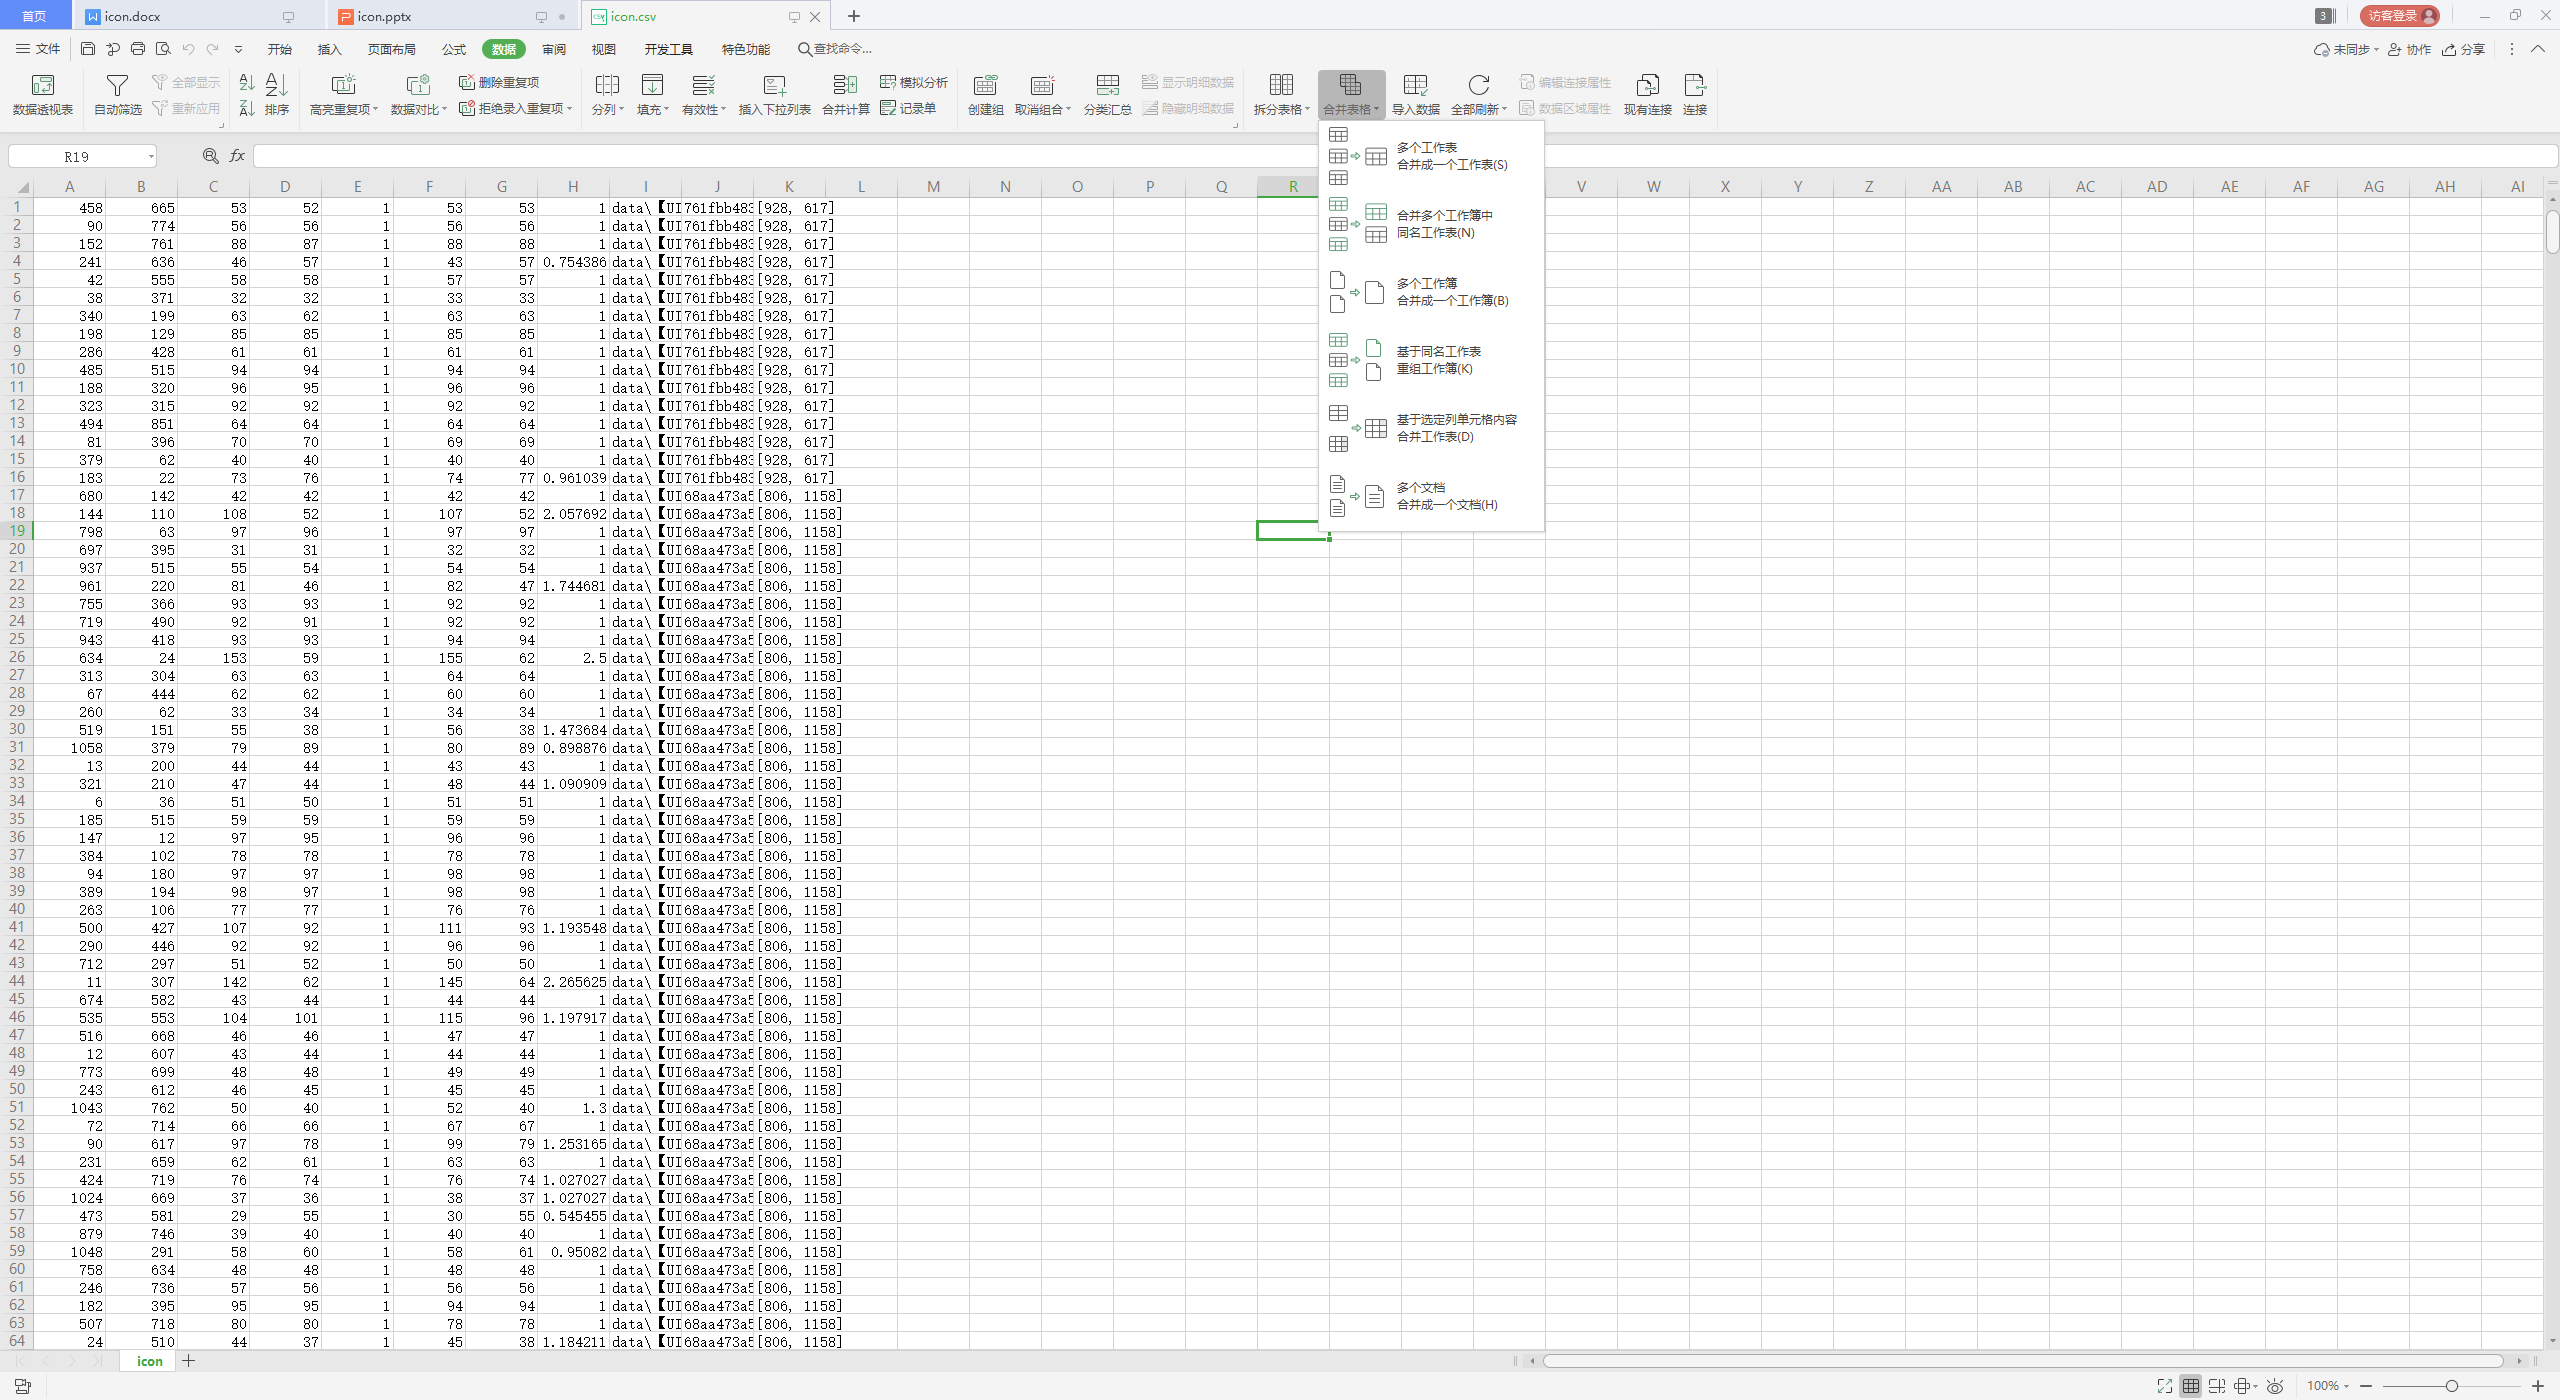character: (1396, 412, 1522, 447), (1389, 483, 1517, 516), (1395, 207, 1510, 240), (1395, 141, 1510, 172), (1395, 278, 1510, 309), (1393, 345, 1508, 376), (1539, 98, 1614, 116), (1160, 74, 1238, 90), (733, 102, 819, 116), (1160, 100, 1236, 116), (476, 102, 560, 116), (1539, 74, 1614, 90), (103, 9, 160, 26), (357, 10, 414, 28), (609, 9, 665, 24), (10, 102, 74, 116), (1619, 102, 1674, 117), (479, 76, 540, 90), (307, 102, 367, 116), (717, 43, 777, 57), (638, 41, 696, 55), (814, 41, 872, 55), (93, 102, 143, 117), (172, 100, 222, 116), (388, 102, 438, 117), (367, 41, 417, 57), (821, 102, 871, 117), (898, 76, 948, 91), (172, 76, 222, 90), (898, 102, 948, 116), (1446, 102, 1496, 116), (2367, 9, 2417, 22), (53, 148, 93, 166), (128, 1353, 167, 1369), (1014, 103, 1064, 116), (1081, 103, 1131, 116), (1252, 103, 1302, 116), (1322, 103, 1372, 116), (1389, 103, 1439, 116), (676, 103, 717, 117), (2405, 40, 2434, 59), (1681, 102, 1715, 117), (2334, 41, 2369, 57), (2462, 40, 2489, 59), (964, 103, 1005, 116), (2307, 1379, 2339, 1393), (34, 41, 64, 55), (17, 10, 50, 22), (267, 43, 295, 57), (317, 41, 345, 55), (440, 41, 467, 55), (490, 43, 517, 57), (538, 41, 565, 55), (590, 41, 617, 55), (590, 103, 617, 117), (264, 102, 291, 116), (633, 103, 660, 117)
icon: (1327, 122, 1388, 186), (1327, 260, 1388, 324), (1322, 331, 1383, 395), (1327, 193, 1388, 255), (1327, 402, 1388, 464), (1326, 467, 1384, 531), (1338, 71, 1372, 97), (103, 71, 133, 98), (1265, 71, 1296, 97), (593, 71, 622, 97), (405, 71, 433, 97), (638, 71, 665, 97), (1634, 71, 1662, 97), (1683, 71, 1708, 97), (829, 72, 859, 95), (29, 72, 55, 97), (331, 71, 357, 95), (264, 71, 288, 97), (690, 72, 715, 97), (972, 72, 998, 97), (1029, 72, 1055, 97), (2177, 1372, 2203, 1397), (1095, 72, 1121, 95), (1402, 72, 1427, 95), (1467, 72, 1489, 97), (2205, 1374, 2227, 1397), (764, 76, 786, 97), (2231, 1374, 2251, 1397), (2313, 5, 2338, 24), (226, 145, 247, 166), (2419, 5, 2439, 26), (2155, 1374, 2176, 1395), (2263, 1374, 2284, 1395), (236, 71, 255, 91), (200, 147, 221, 166), (1140, 98, 1160, 117), (236, 98, 255, 117), (150, 72, 169, 91), (590, 7, 609, 26), (459, 72, 478, 91), (14, 1376, 33, 1395), (2503, 38, 2520, 59), (150, 98, 169, 116), (457, 98, 476, 116), (796, 40, 814, 59), (879, 72, 896, 91), (1517, 72, 1536, 90), (1515, 98, 1534, 116), (86, 1352, 105, 1369), (103, 40, 121, 57), (879, 98, 896, 116), (845, 7, 862, 24), (1141, 72, 1158, 90), (12, 1352, 29, 1369), (2512, 1353, 2529, 1371), (79, 40, 97, 55), (153, 40, 171, 55), (129, 40, 147, 55), (179, 41, 197, 57), (279, 9, 297, 24), (84, 9, 102, 24), (14, 40, 31, 55), (336, 9, 353, 24), (786, 9, 803, 24), (2313, 41, 2331, 57), (2439, 41, 2457, 57), (2529, 40, 2546, 55), (36, 1352, 53, 1367), (179, 1352, 197, 1367), (2529, 1378, 2546, 1393), (2443, 1378, 2460, 1393), (2544, 1334, 2560, 1352), (807, 9, 822, 24), (2388, 41, 2403, 57), (64, 1352, 79, 1367), (2358, 1376, 2374, 1391), (2507, 7, 2524, 21), (2476, 9, 2493, 22), (1522, 1353, 1539, 1367), (205, 41, 221, 55), (145, 145, 155, 166), (534, 9, 548, 24), (2538, 7, 2553, 21), (214, 119, 229, 133), (1508, 1353, 1522, 1367), (231, 43, 245, 55), (555, 9, 567, 22), (1500, 102, 1512, 116), (2546, 176, 2558, 190), (2372, 45, 2384, 59), (2546, 195, 2560, 207), (371, 103, 383, 116), (2341, 1378, 2351, 1391), (565, 102, 576, 114), (441, 103, 452, 116), (1233, 117, 1241, 131), (1303, 103, 1312, 117), (617, 103, 626, 116), (721, 103, 729, 116), (1065, 102, 1072, 116), (1376, 102, 1383, 116), (664, 103, 671, 116)
